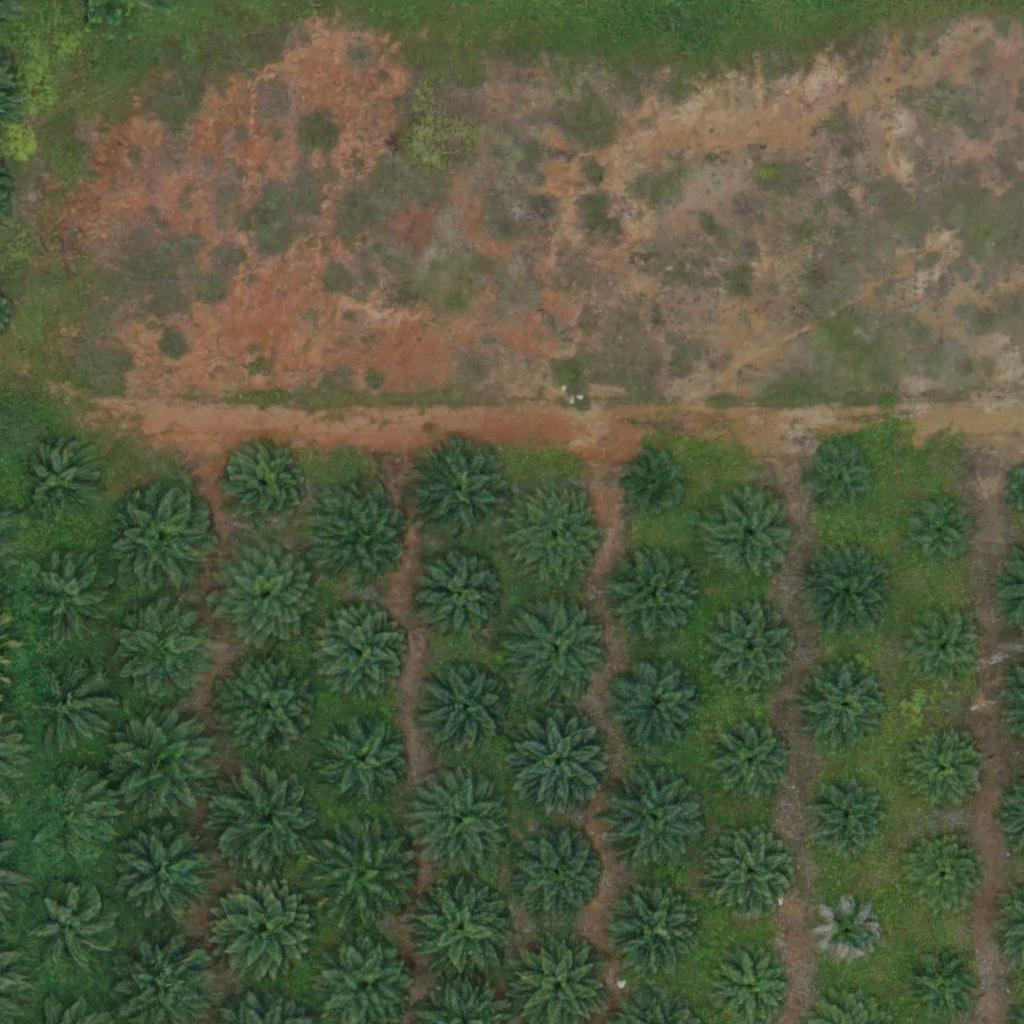Kelapa_Sawit: (211, 539, 324, 653), (215, 651, 328, 765), (312, 815, 425, 929), (404, 872, 517, 986), (599, 762, 712, 875), (402, 765, 514, 879), (113, 709, 225, 822), (111, 817, 223, 930), (215, 766, 327, 879), (406, 436, 518, 549), (506, 706, 618, 819), (217, 877, 317, 978), (314, 491, 414, 592), (415, 550, 515, 651), (417, 656, 517, 757), (508, 488, 608, 589), (510, 594, 610, 695), (604, 546, 704, 647), (607, 654, 707, 755), (605, 878, 705, 979), (701, 484, 801, 585), (110, 491, 210, 591), (123, 601, 223, 701), (314, 600, 414, 700), (317, 711, 417, 811), (509, 822, 609, 922), (709, 608, 797, 697), (899, 832, 987, 921), (17, 436, 105, 524), (28, 666, 116, 754), (803, 551, 891, 639), (800, 664, 888, 752), (902, 730, 990, 818), (33, 556, 120, 644), (32, 770, 119, 858), (27, 884, 114, 972), (218, 439, 305, 527), (706, 722, 793, 810), (709, 832, 796, 920), (905, 614, 980, 689), (809, 782, 884, 857), (811, 896, 886, 971), (810, 447, 873, 510), (907, 494, 970, 557), (627, 449, 690, 512)
